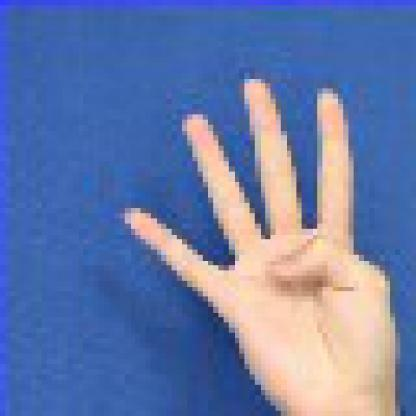four: (104, 62, 411, 411)
